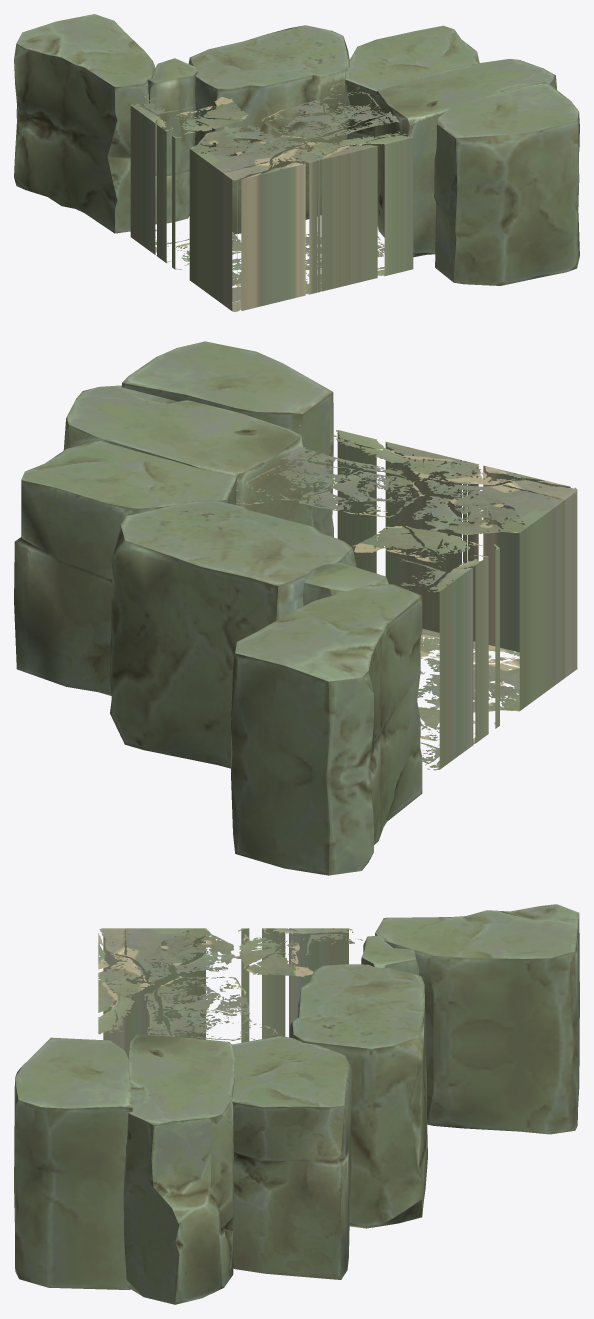
The model's file is Ruins_Wall_DMG_Center_BotRight_A.obj.
3 renders of one model, top to bottom at view 1: azimuth 30°, elevation 25°; view 2: azimuth 150°, elevation 25°; view 3: azimuth 270°, elevation 25°, orthographic. The views are drawn at different scales.
Visible parts, largest first — view 1: Dn_HL_Ruins_Wall_DMG_Center_BotRight_A; view 2: Dn_HL_Ruins_Wall_DMG_Center_BotRight_A; view 3: Dn_HL_Ruins_Wall_DMG_Center_BotRight_A.
Part boxes in pixels (x1,y1,x2,y2): Dn_HL_Ruins_Wall_DMG_Center_BotRight_A: [14, 14, 579, 311]; Dn_HL_Ruins_Wall_DMG_Center_BotRight_A: [14, 341, 577, 875]; Dn_HL_Ruins_Wall_DMG_Center_BotRight_A: [14, 904, 579, 1304].
Size of the model in its own units: 7.83 by 2.89 by 8.05.
